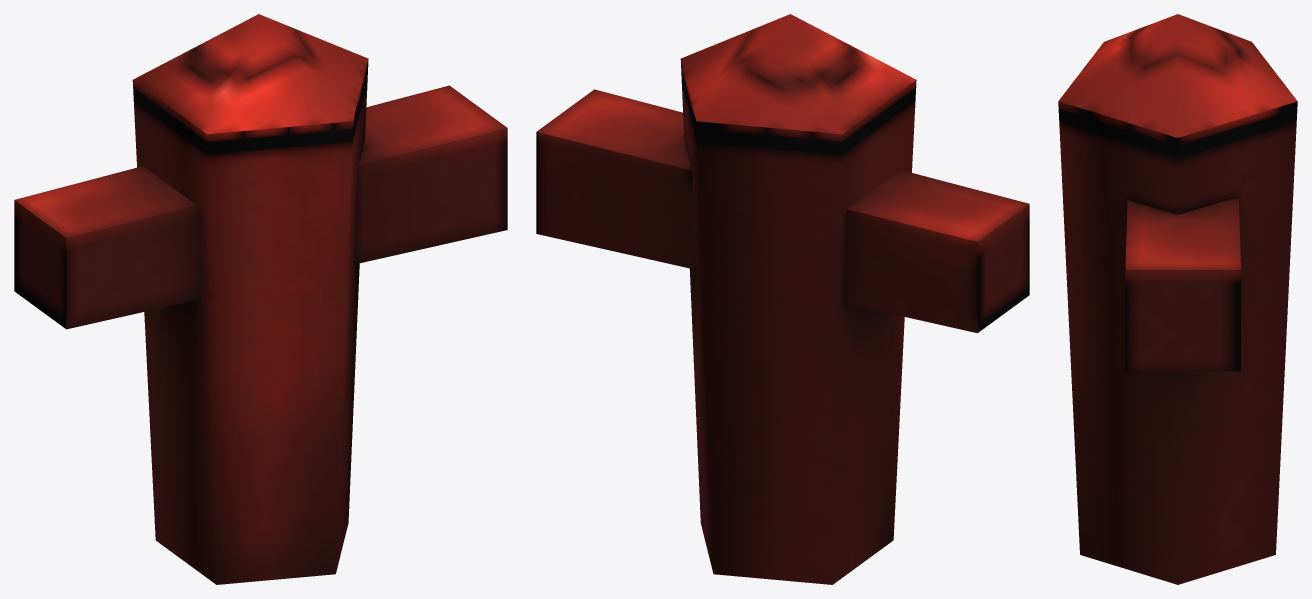
File: hydrant.FBX
3 views of the same model, side by side, from view 1: azimuth 30°, elevation 25°; view 2: azimuth 150°, elevation 25°; view 3: azimuth 270°, elevation 25° (orthographic).
Parts seen in each view (by area): view 1: hydrant; view 2: hydrant; view 3: hydrant.
Boxes of the visible parts, x1,y1,x2,y2 form: hydrant: (14,14,507,584); hydrant: (536,14,1029,584); hydrant: (1058,14,1297,584).
Size of the model in its own units: 136 by 157 by 64.78.
